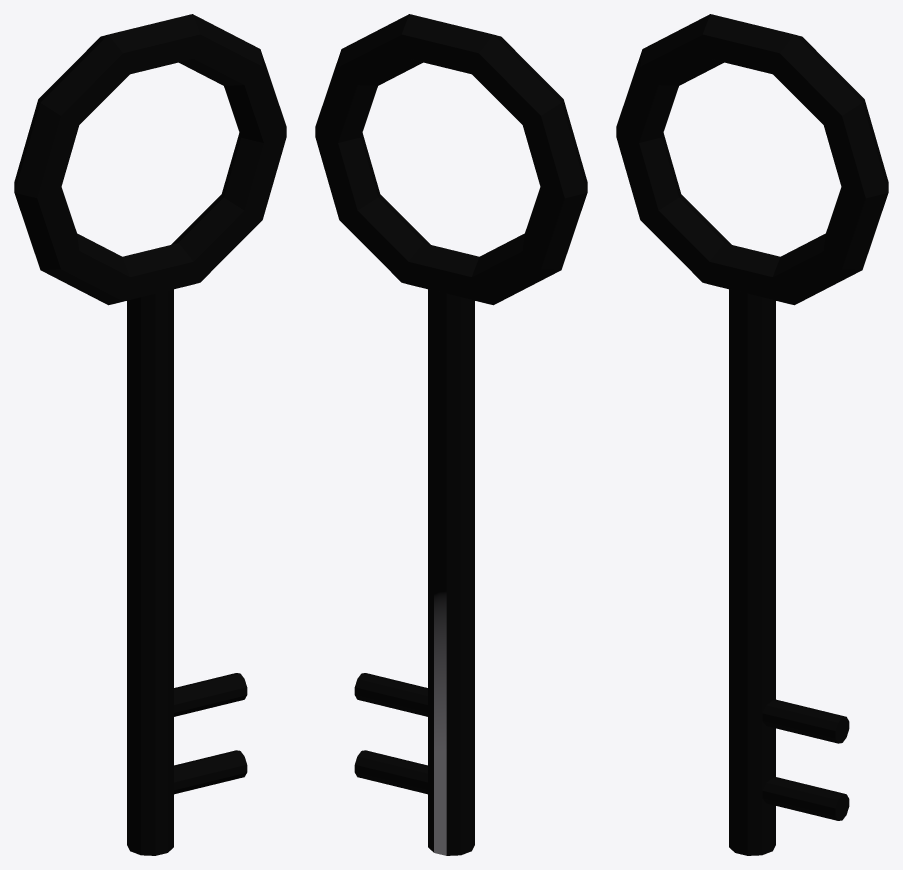
File: key.fbx
3 views of the same model, side by side, from view 1: azimuth 30°, elevation 25°; view 2: azimuth 150°, elevation 25°; view 3: azimuth 330°, elevation 25° (orthographic).
Visible parts, largest first — view 1: Chia_Khoa; view 2: Chia_Khoa; view 3: Chia_Khoa.
Part boxes in pixels (x1=…): Chia_Khoa: x1=14, y1=14, x2=286, y2=855; Chia_Khoa: x1=315, y1=14, x2=587, y2=855; Chia_Khoa: x1=616, y1=14, x2=888, y2=855.
Bounding box in the file's own units: 1.38 × 3.99 × 0.1996.
